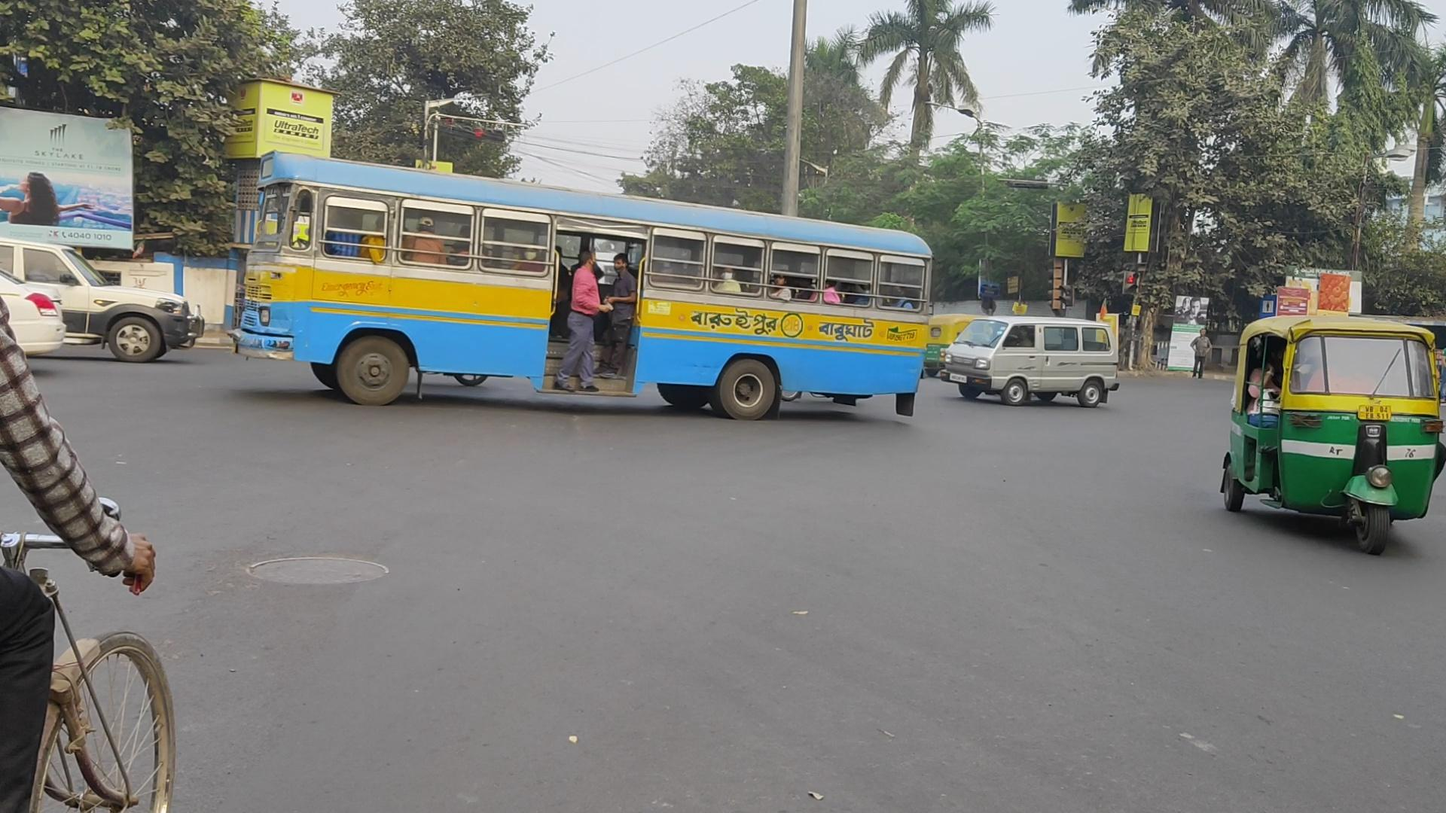Auto: (1222, 315, 1444, 556)
Bus: (229, 150, 932, 422)
car: (1, 236, 197, 364)
van: (939, 315, 1120, 409)
